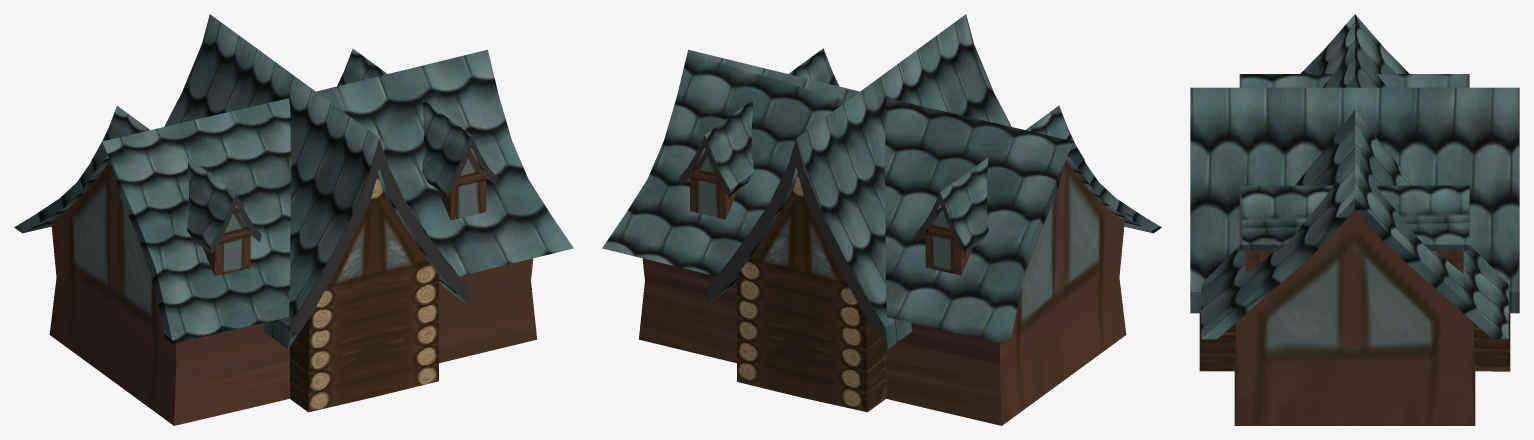
Rendered from EXT.fbx.
3 views of the same model, side by side, from view 1: azimuth 30°, elevation 25°; view 2: azimuth 150°, elevation 25°; view 3: azimuth 270°, elevation 25° (orthographic). The views are drawn at different scales.
Visible parts, largest first — view 1: Cottage EXT; view 2: Cottage EXT; view 3: Cottage EXT.
Part boxes in pixels (left/top/right/bottom): Cottage EXT: left=14, top=14, right=573, bottom=425; Cottage EXT: left=602, top=14, right=1161, bottom=425; Cottage EXT: left=1190, top=14, right=1519, bottom=425.
Bounding box in the file's own units: 83.72 × 52.35 × 61.5.
